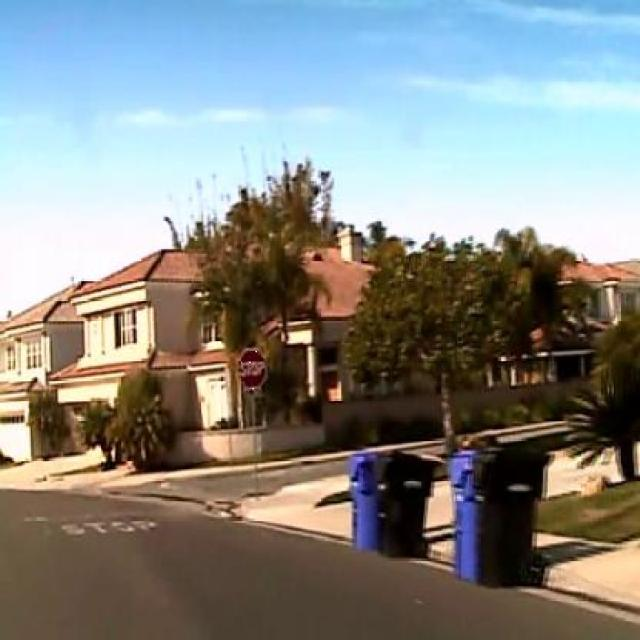stop: (235, 346, 268, 391)
